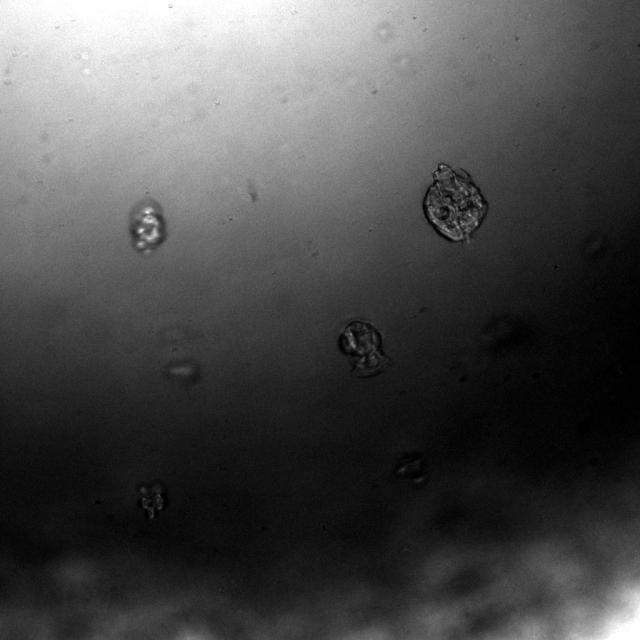organoid: (423, 163, 488, 242), (339, 321, 389, 377), (129, 197, 166, 252), (394, 452, 426, 487), (138, 481, 167, 519), (164, 359, 200, 385)
